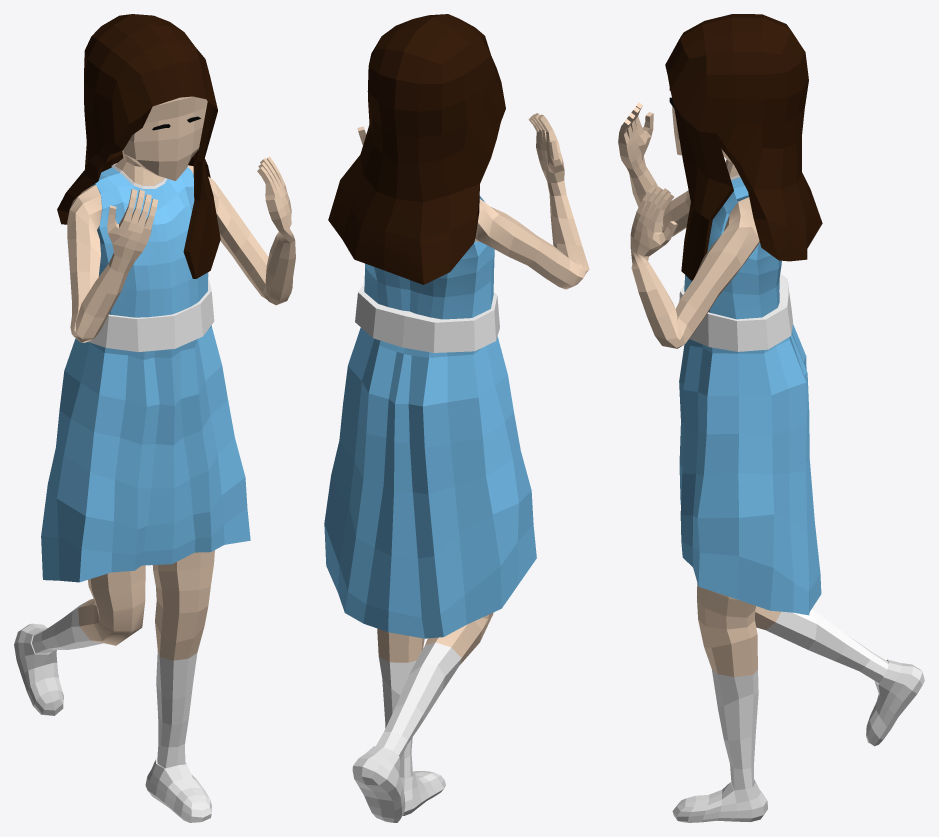
File: girl6.obj
The picture shows the model from 3 angles, left to right: view 1: azimuth 30°, elevation 25°; view 2: azimuth 150°, elevation 25°; view 3: azimuth 270°, elevation 25°; orthographic projection.
Visible parts, largest first — view 1: GIrl_6_yr; view 2: GIrl_6_yr; view 3: GIrl_6_yr.
Part boxes in pixels (box(x1,y1,x2,y2)): GIrl_6_yr: box(14, 14, 295, 822); GIrl_6_yr: box(324, 14, 589, 822); GIrl_6_yr: box(618, 14, 924, 822).
Bounding box in the file's own units: 13.25 × 44.17 × 15.56.
1 material, 1 textured.
